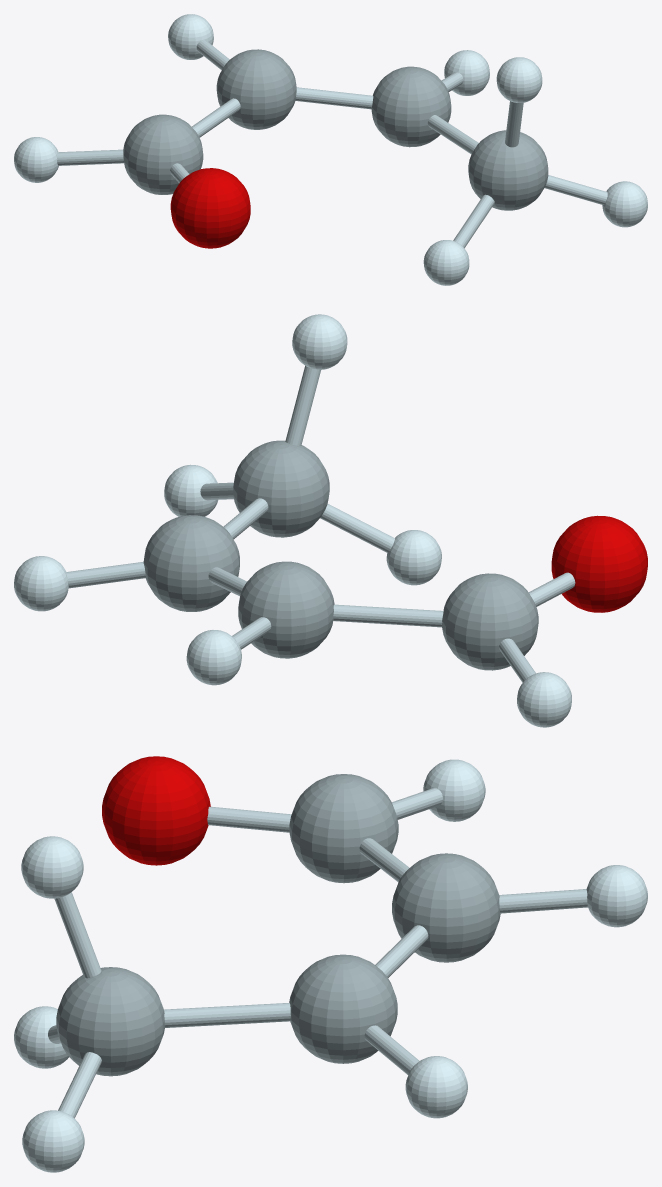
File: irc_031.glb
3 views of the same model, one above another, from view 1: azimuth 30°, elevation 25°; view 2: azimuth 150°, elevation 25°; view 3: azimuth 270°, elevation 25° (orthographic). The views are drawn at different scales.
Parts seen in each view (by area): view 1: Renderer Node; view 2: Renderer Node; view 3: Renderer Node.
Boxes of the visible parts, x1,y1,x2,y2 form: Renderer Node: [14, 14, 647, 285]; Renderer Node: [14, 314, 647, 727]; Renderer Node: [14, 756, 647, 1172].
Size of the model in its own units: 4.81 by 1.95 by 4.05.
